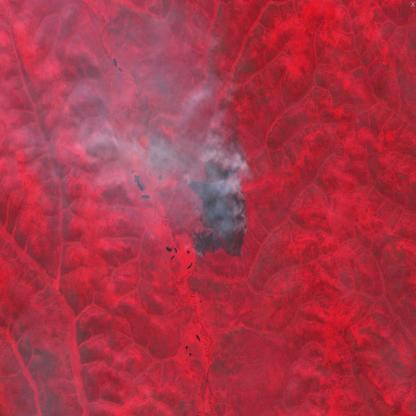fire: (186, 152, 250, 260)
